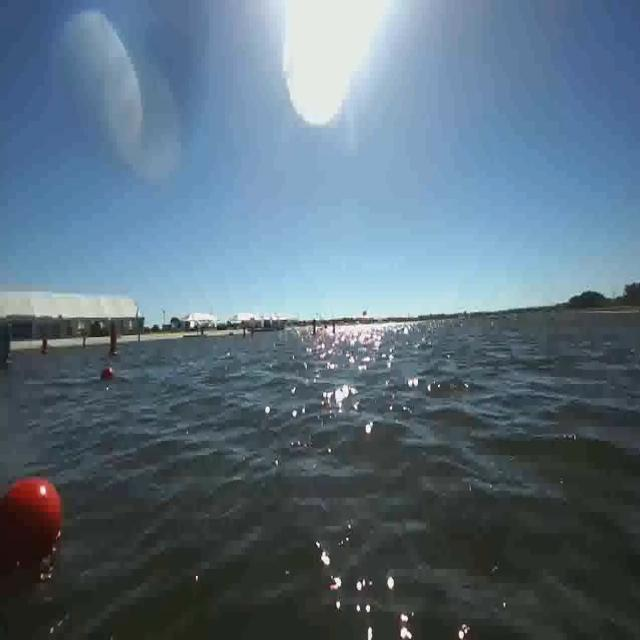red-buoy: (0, 475, 60, 572), (100, 368, 112, 380)
